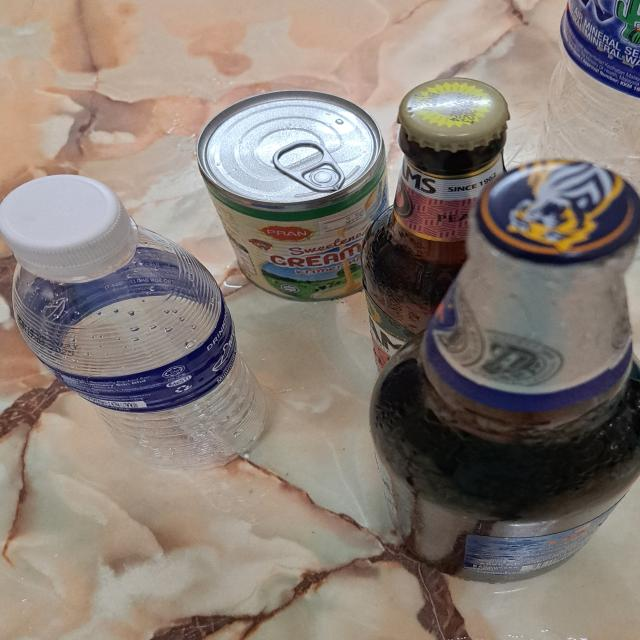can: (196, 90, 389, 300)
glass bottle: (373, 156, 640, 584), (364, 77, 508, 367)
plastic bottle: (0, 175, 267, 470), (550, 0, 640, 158)
plastic bottle cap: (2, 175, 140, 280)
pop tab: (274, 140, 346, 195)
